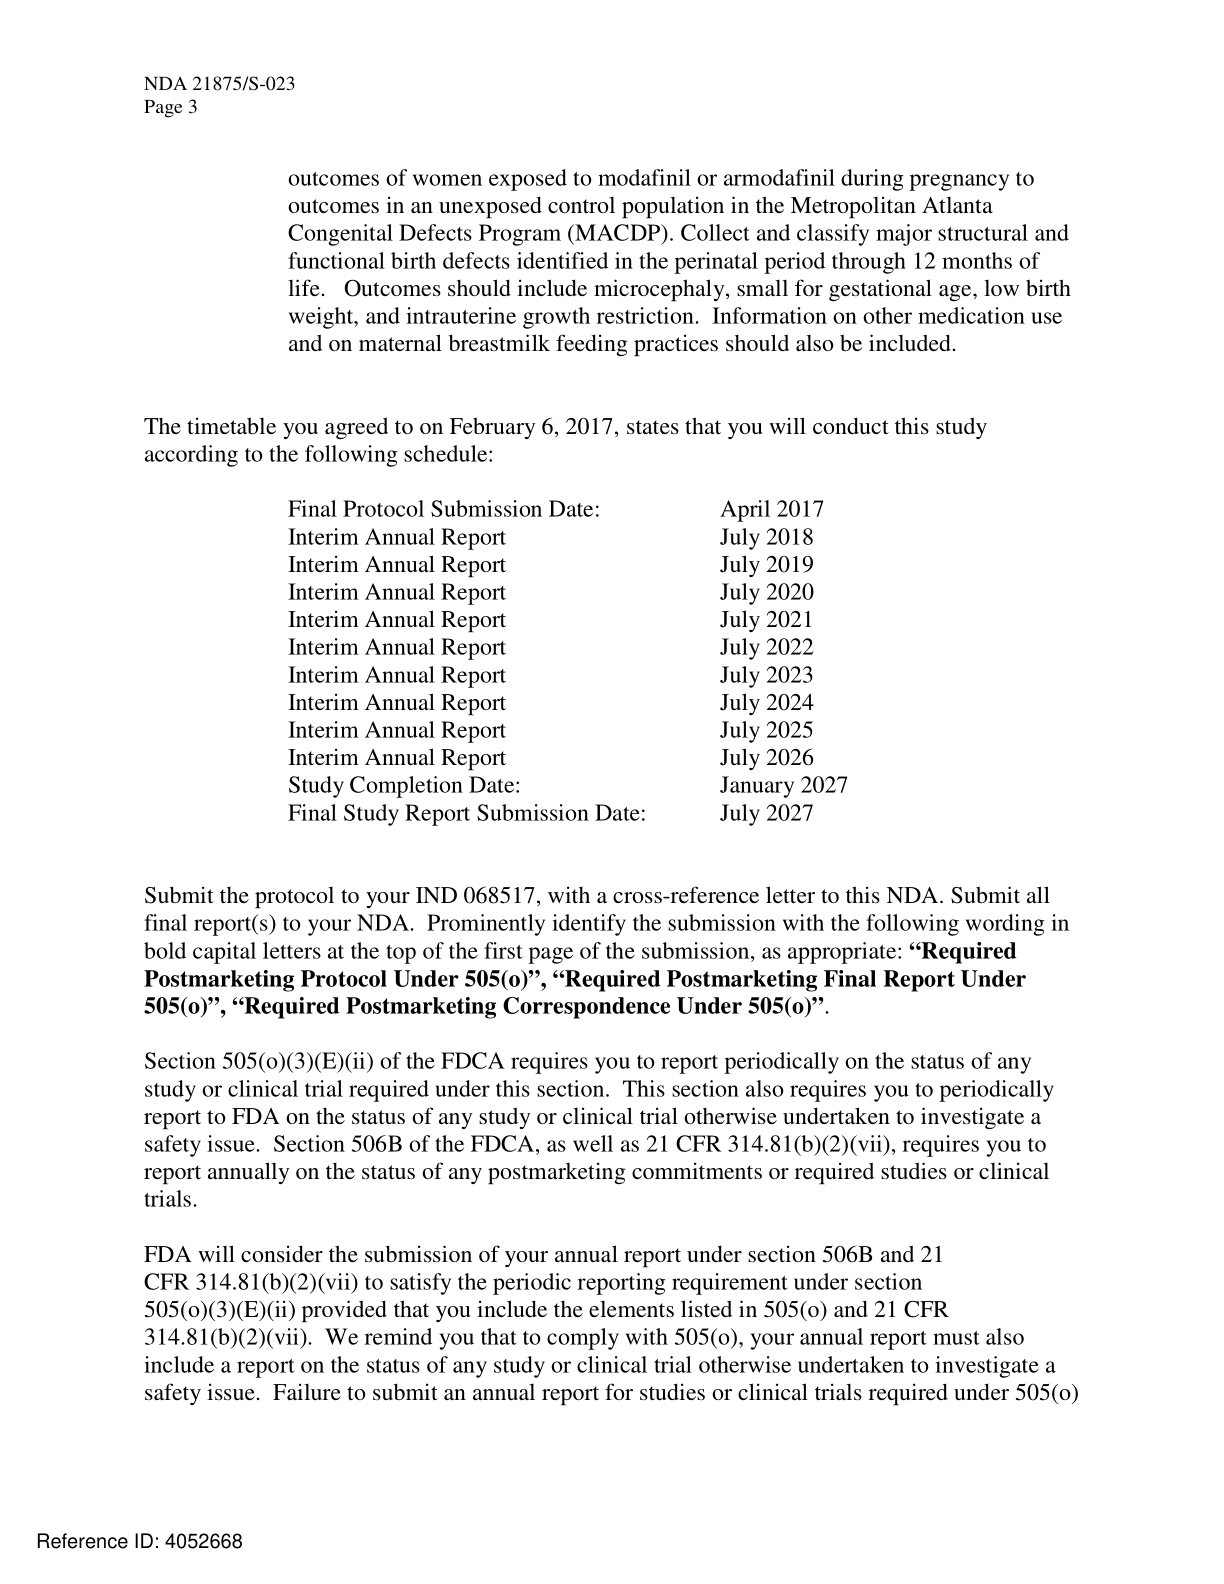nolines: (285, 496, 849, 825)
